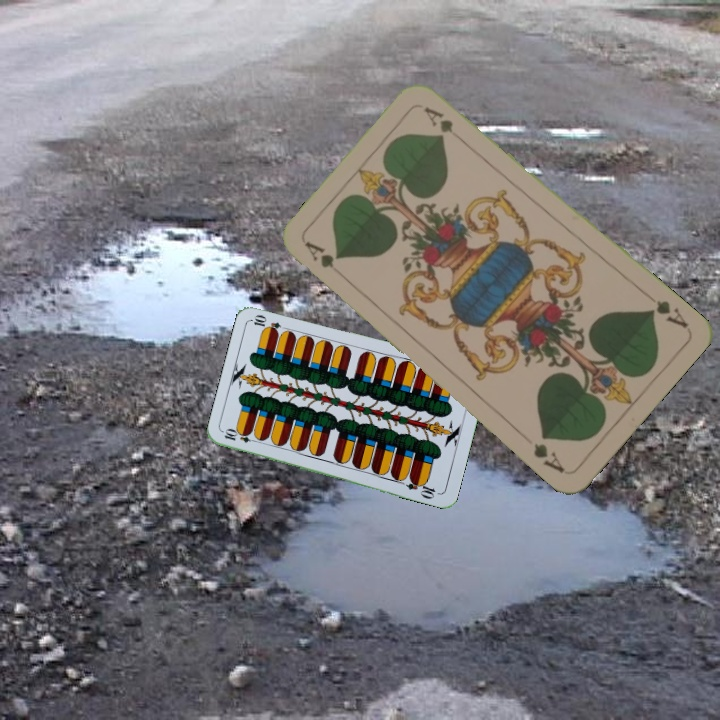E10: (220, 427, 261, 446)
GA: (644, 296, 691, 332), (301, 237, 337, 271)
